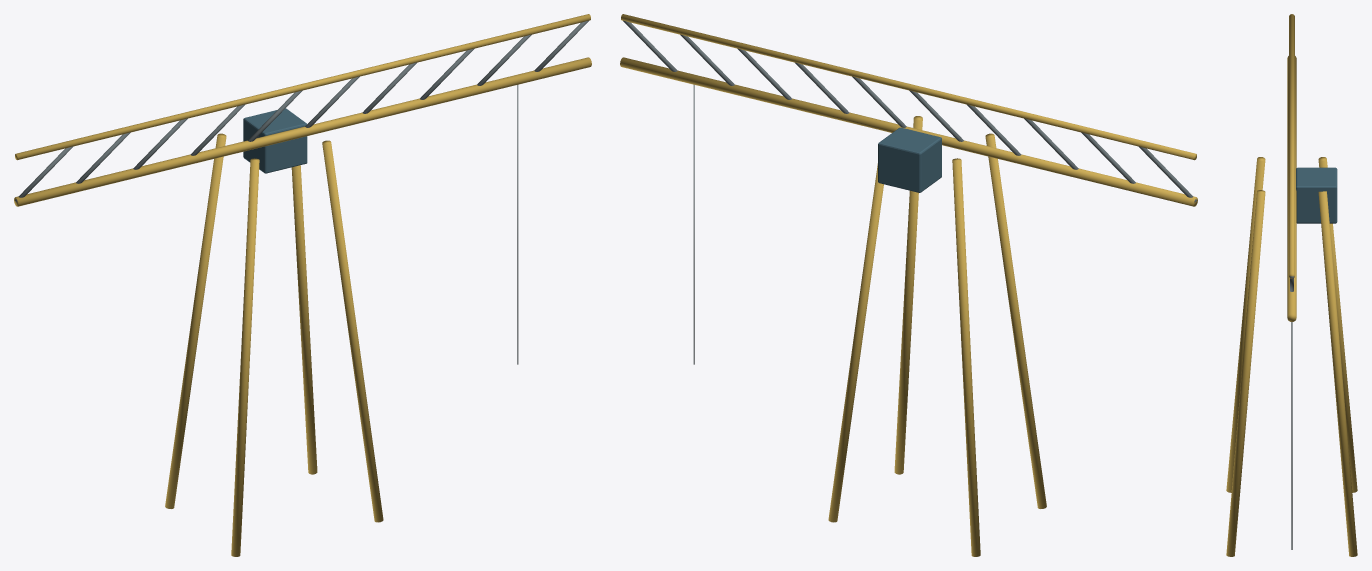
File: mc_crane.glb
3 views of the same model, side by side, from view 1: azimuth 30°, elevation 25°; view 2: azimuth 150°, elevation 25°; view 3: azimuth 270°, elevation 25° (orthographic). The views are drawn at different scales.
Visible parts, largest first — view 1: mc_crane__Geometry; view 2: mc_crane__Geometry; view 3: mc_crane__Geometry.
Boxes of the visible parts, x1,y1,x2,y2 form: mc_crane__Geometry: [14, 14, 591, 556]; mc_crane__Geometry: [620, 14, 1197, 556]; mc_crane__Geometry: [1226, 14, 1357, 556].
Bounding box in the file's own units: 40.17 × 28.24 × 8.55.
